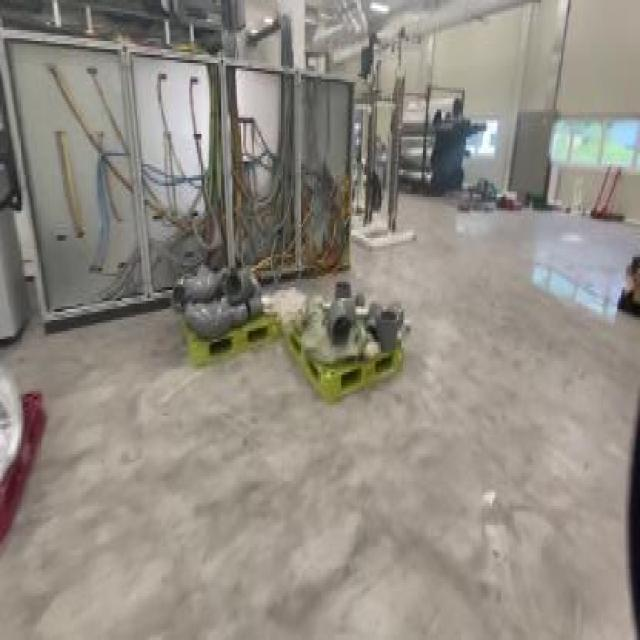box: (294, 282, 404, 402), (166, 262, 286, 364)
